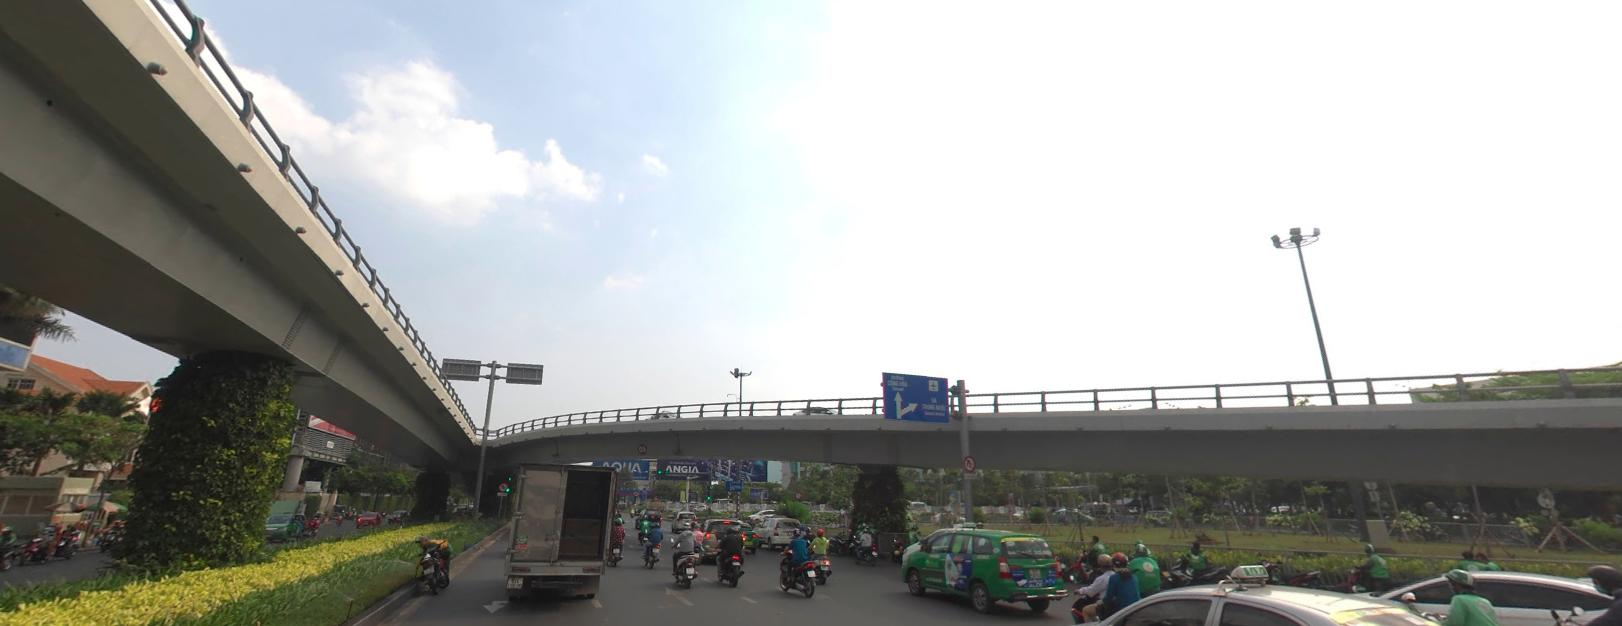Cam con lai: (637, 443, 646, 453)
Cam re: (962, 453, 975, 471), (498, 481, 506, 490), (794, 490, 801, 498)
